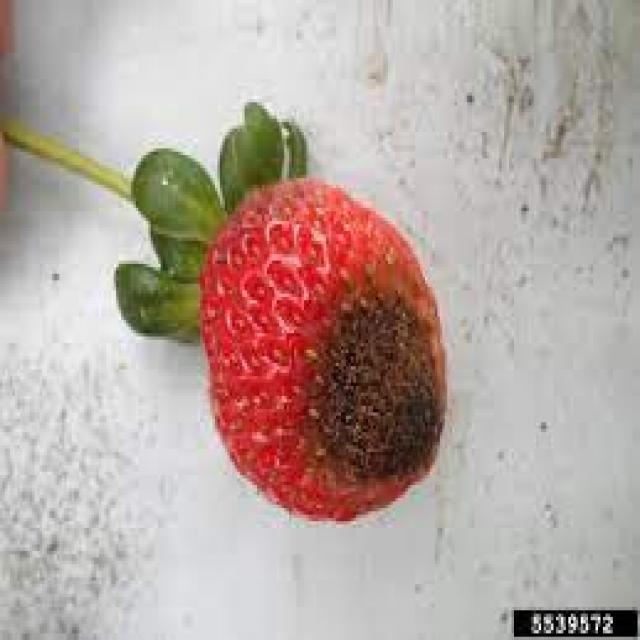Mancha negra Antracnosis: (196, 177, 454, 523)
